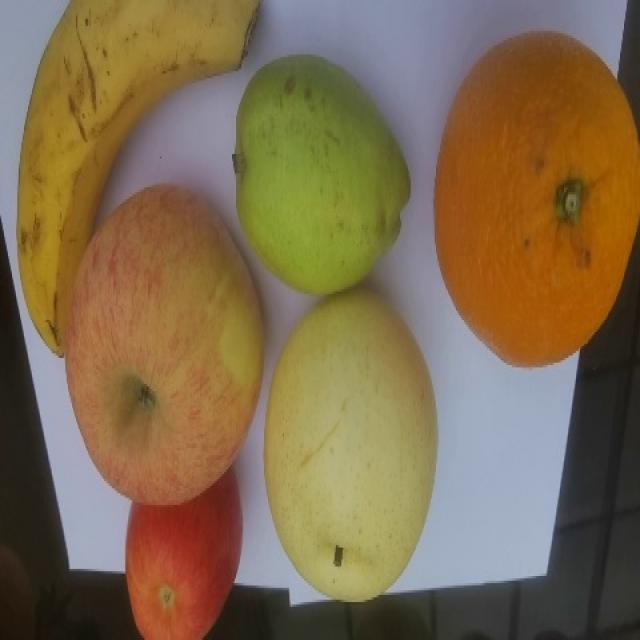Apple: (63, 182, 264, 506), (124, 466, 243, 639)
Banana: (15, 0, 261, 357)
Orange: (433, 29, 639, 368)
